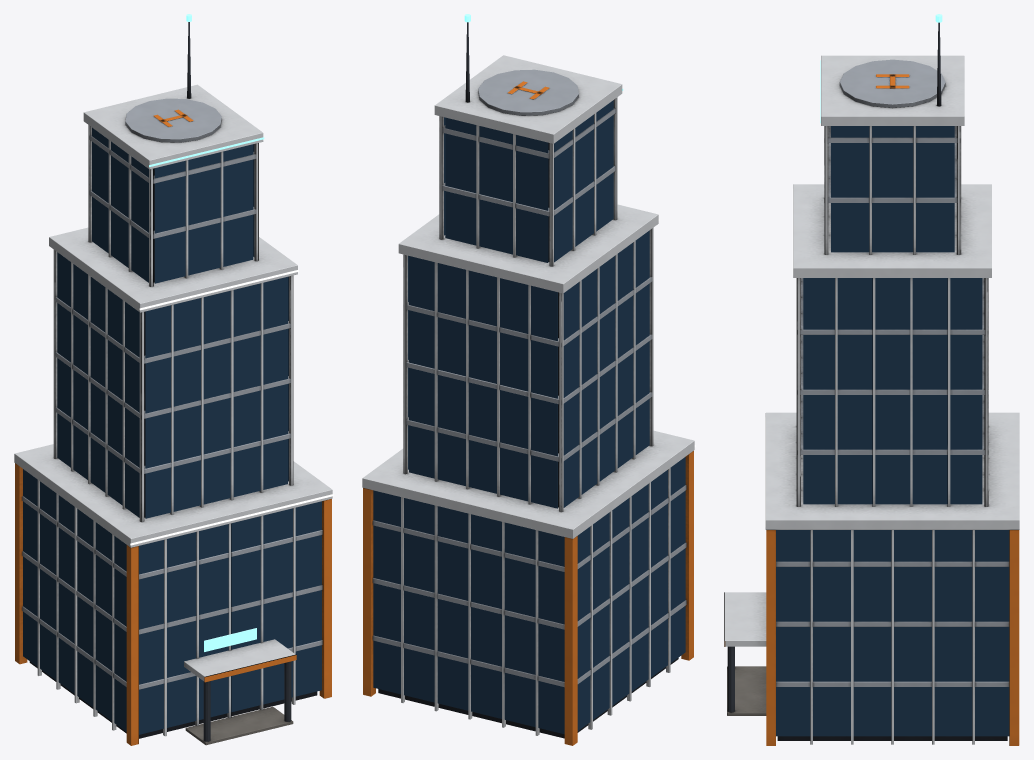
The model's file is Edificio_Torre.fbx.
The picture shows the model from 3 angles, left to right: view 1: azimuth 30°, elevation 25°; view 2: azimuth 150°, elevation 25°; view 3: azimuth 270°, elevation 25°; orthographic projection. The views are drawn at different scales.
Parts seen in each view (by area): view 1: Edificio_Torre_Cristal, Edificio_Torre, Edificio_Torre_Neon; view 2: Edificio_Torre_Cristal, Edificio_Torre; view 3: Edificio_Torre_Cristal, Edificio_Torre.
Part boxes in pixels (x1,y1,x2,y2): Edificio_Torre_Cristal: (23,127,321,734); Edificio_Torre: (14,22,332,745); Edificio_Torre_Neon: (130,14,333,651); Edificio_Torre_Cristal: (373,100,685,734); Edificio_Torre: (362,22,694,745); Edificio_Torre_Cristal: (776,126,1009,736); Edificio_Torre: (724,22,1019,745).
Bounding box in the file's own units: 6.47 × 19.49 × 7.49.
4 materials, 1 textured.
